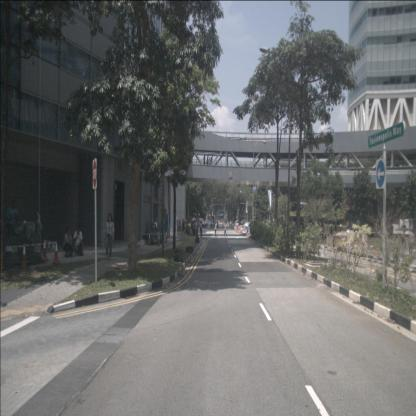cone: (20, 242, 29, 271), (53, 240, 60, 266), (42, 237, 47, 261), (234, 225, 243, 233), (157, 232, 161, 247), (372, 244, 376, 258), (147, 232, 151, 245), (346, 244, 349, 257), (165, 230, 168, 242)
